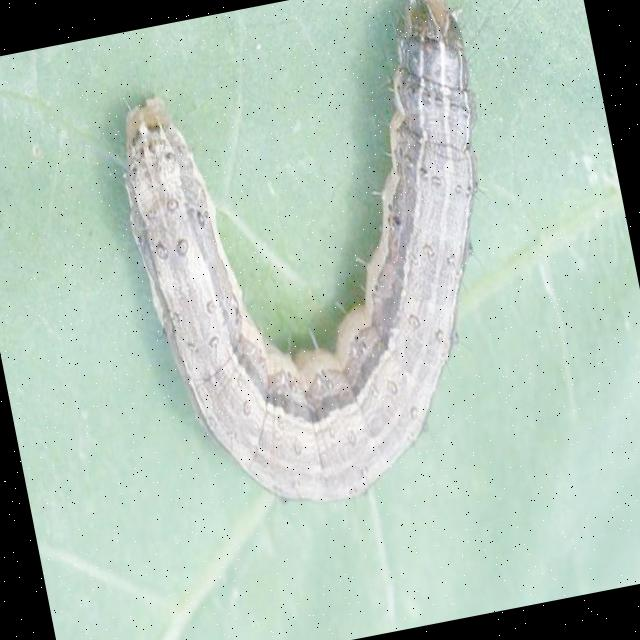worm: (95, 1, 550, 534)
